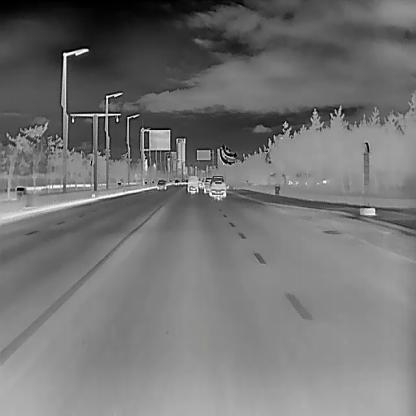car: (210, 175, 227, 199), (186, 175, 199, 193), (203, 177, 213, 193), (157, 180, 167, 190)
